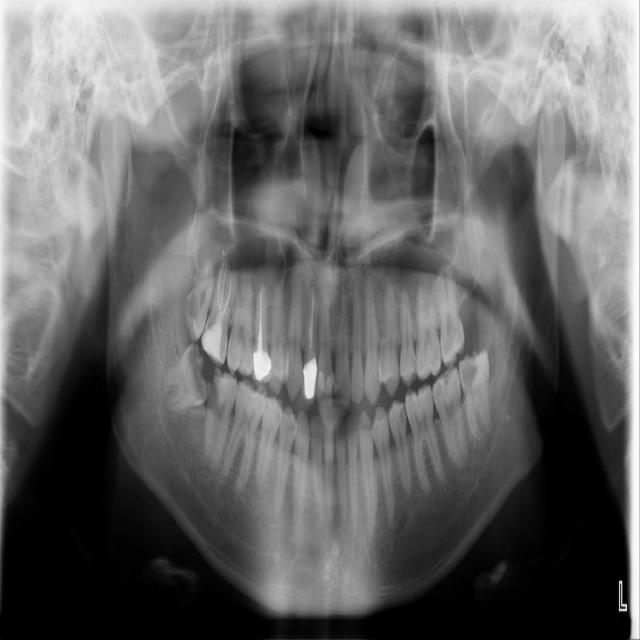3M ESPE Implant: (176, 255, 220, 343)
52: (200, 311, 228, 367), (185, 349, 206, 400), (300, 356, 318, 405), (252, 350, 274, 384), (460, 364, 478, 386), (207, 373, 218, 408), (398, 406, 406, 426), (416, 388, 419, 406)
73: (208, 257, 240, 327), (304, 285, 317, 367), (600, 592, 606, 598)
BioHorizons Implant: (432, 261, 468, 369)
Biomet 3i Implant: (458, 348, 492, 442)
Blue Sky Bio Implant: (430, 365, 470, 471)
Caries: (197, 256, 239, 367)
Implant: (190, 365, 242, 469)
Keystone Dental Implant: (159, 341, 210, 413)
